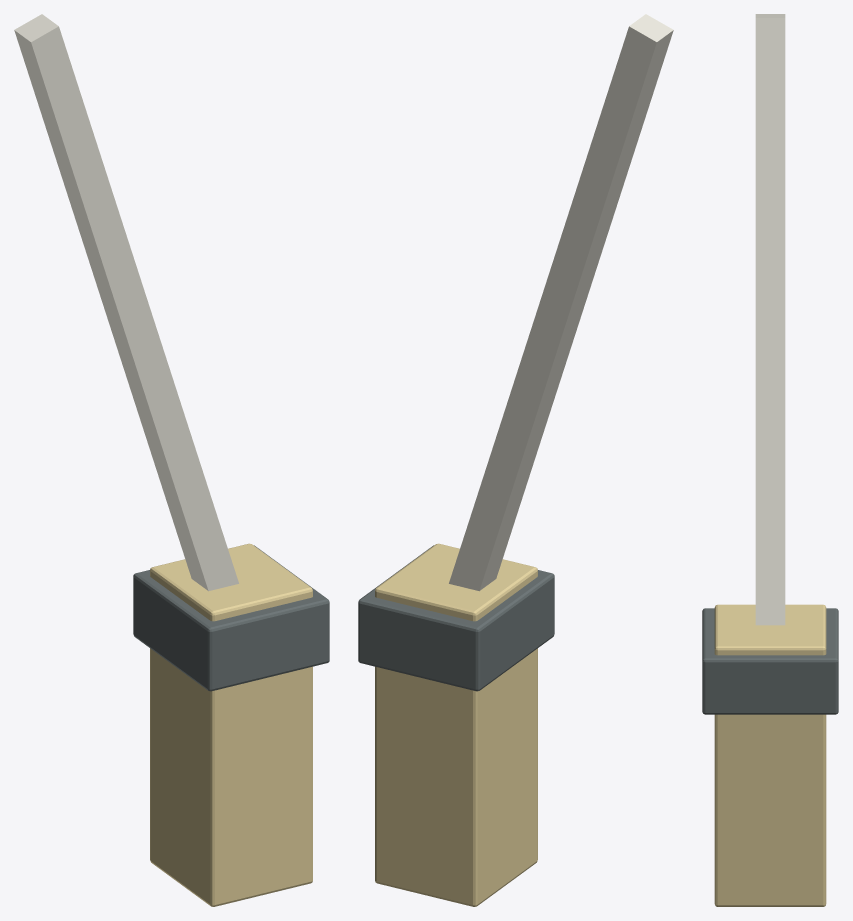
Rendered from F1_GateBarrier.fbx.
The picture shows the model from 3 angles, left to right: view 1: azimuth 30°, elevation 25°; view 2: azimuth 150°, elevation 25°; view 3: azimuth 270°, elevation 25°; orthographic projection. The views are drawn at different scales.
Visible parts, largest first — view 1: F1_GateBarrier_LOD0; view 2: F1_GateBarrier_LOD0; view 3: F1_GateBarrier_LOD0.
Boxes of the visible parts, bbox=[...] form: F1_GateBarrier_LOD0: bbox=[14, 14, 329, 906]; F1_GateBarrier_LOD0: bbox=[358, 14, 673, 906]; F1_GateBarrier_LOD0: bbox=[702, 14, 838, 906].
Size of what is drawn, in the model's own units: 111 by 352 by 55.
